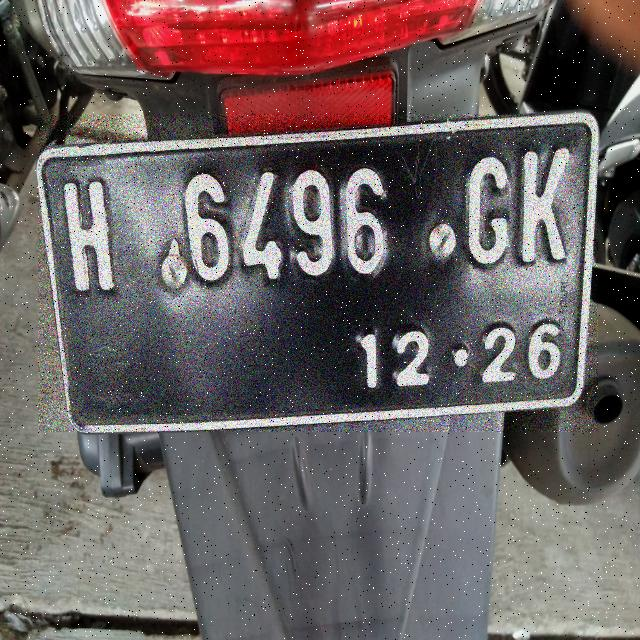plate: (38, 114, 597, 431)
